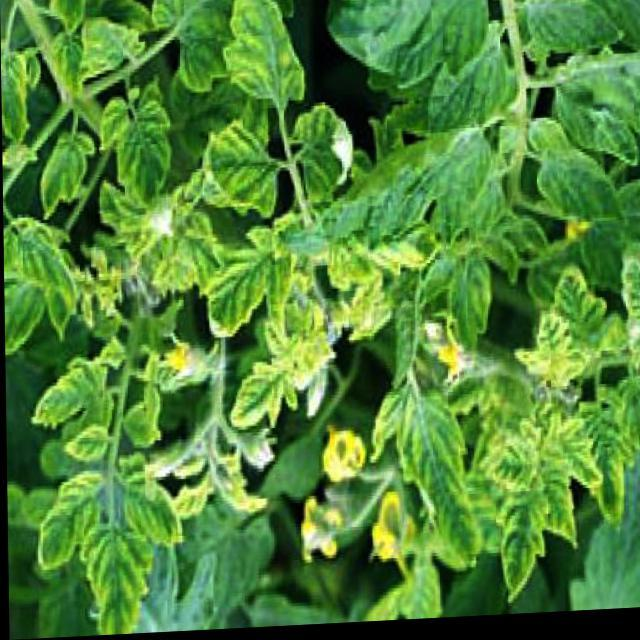Tomato healthy leaf: (371, 362, 484, 574), (215, 0, 318, 137), (196, 228, 280, 364), (194, 110, 284, 232), (98, 82, 180, 212), (84, 509, 152, 635), (5, 212, 90, 312), (29, 468, 108, 568), (34, 350, 122, 434), (36, 102, 94, 224), (552, 267, 610, 386), (220, 360, 303, 442), (576, 410, 630, 531), (489, 506, 547, 602), (466, 436, 556, 494), (128, 477, 192, 552)
